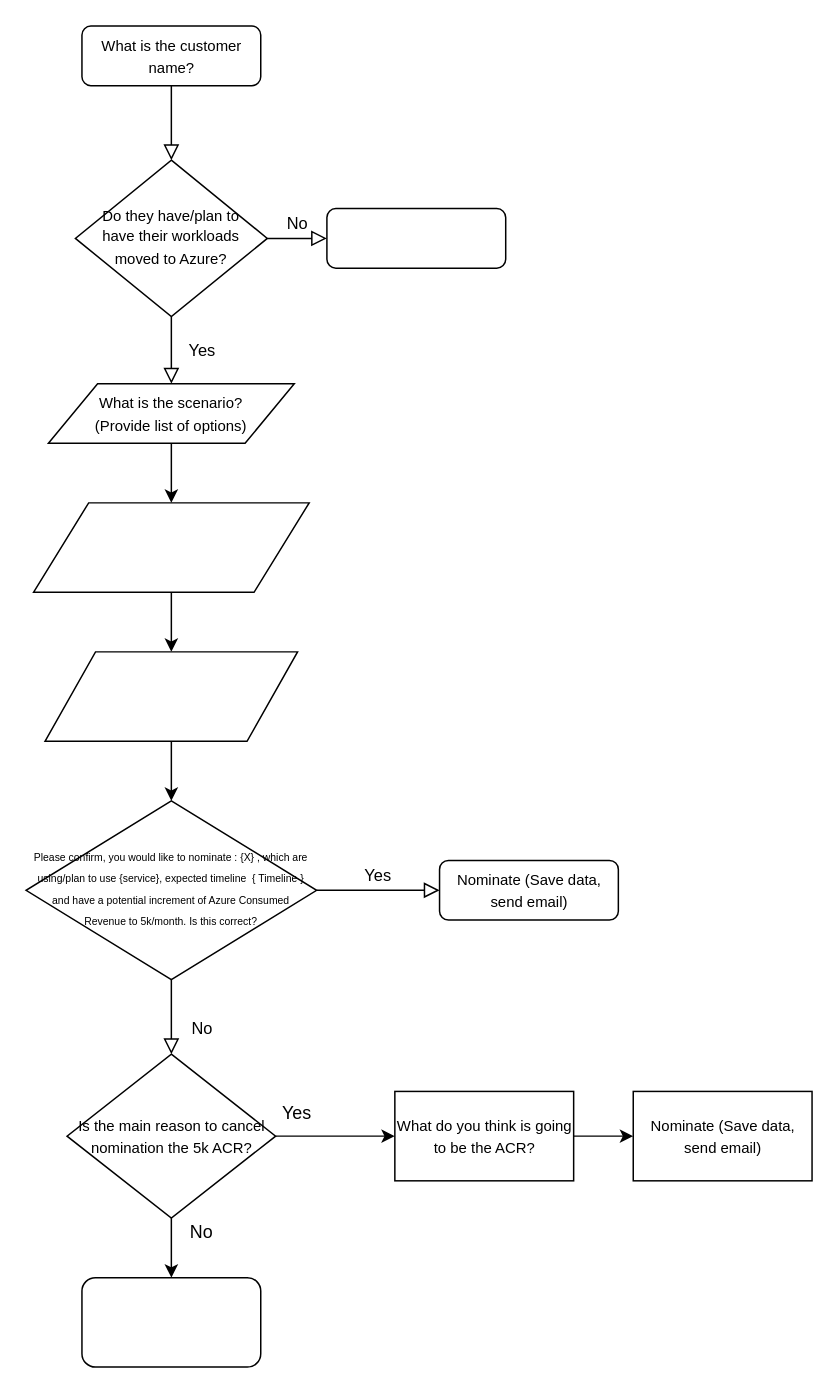
Image size: 839x1393. Some labels were removed from this diagram. The shapes that lost their labels are listed below. From the top down, each one's centre as x and y in pixels, then its label:
At [415,237]: "Exit".
At [170,546]: "Where is the customer located? (Provide list of regions)".
At [171,695]: "When do they plan to start? (0- 2weeks;1month;2months)".
At [170,1321]: "Cancel Nomination".
